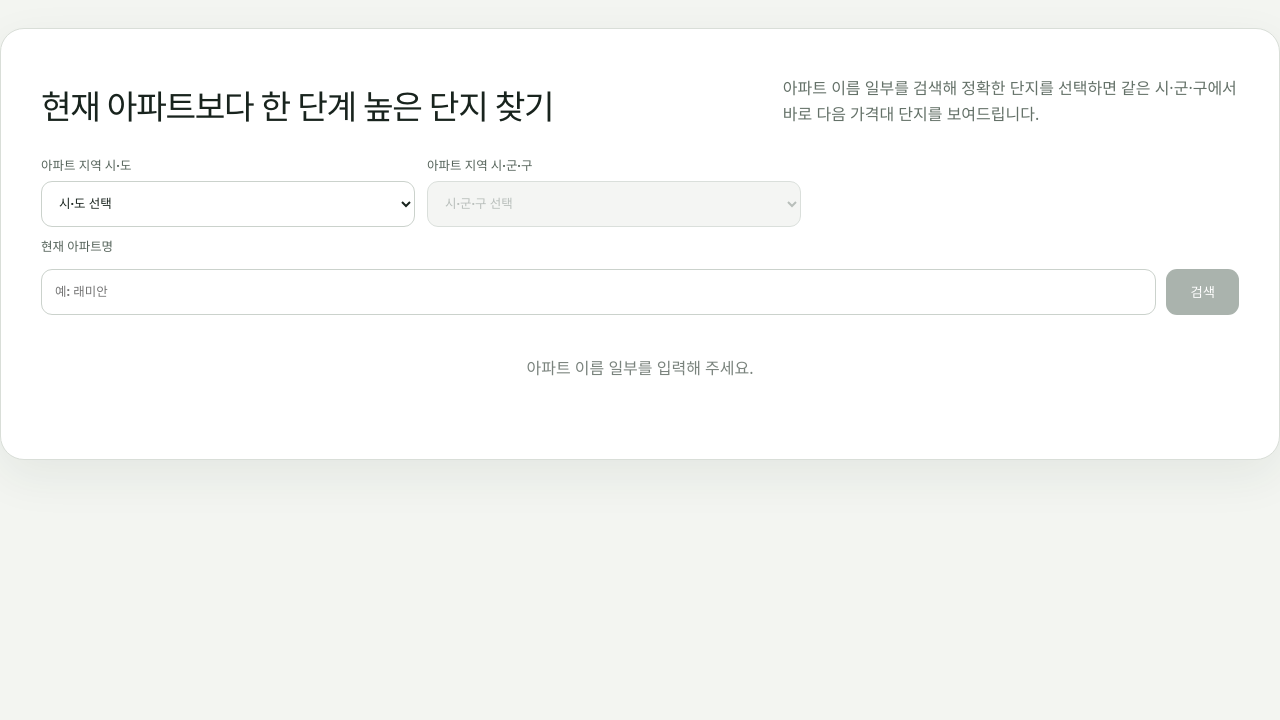
searches current apartment and recommends better apartments in the same region
Step 1. Select "서울특별시" in the dropdown labelled "아파트 지역 시·도" → (228, 204), box [41,181,415,227]
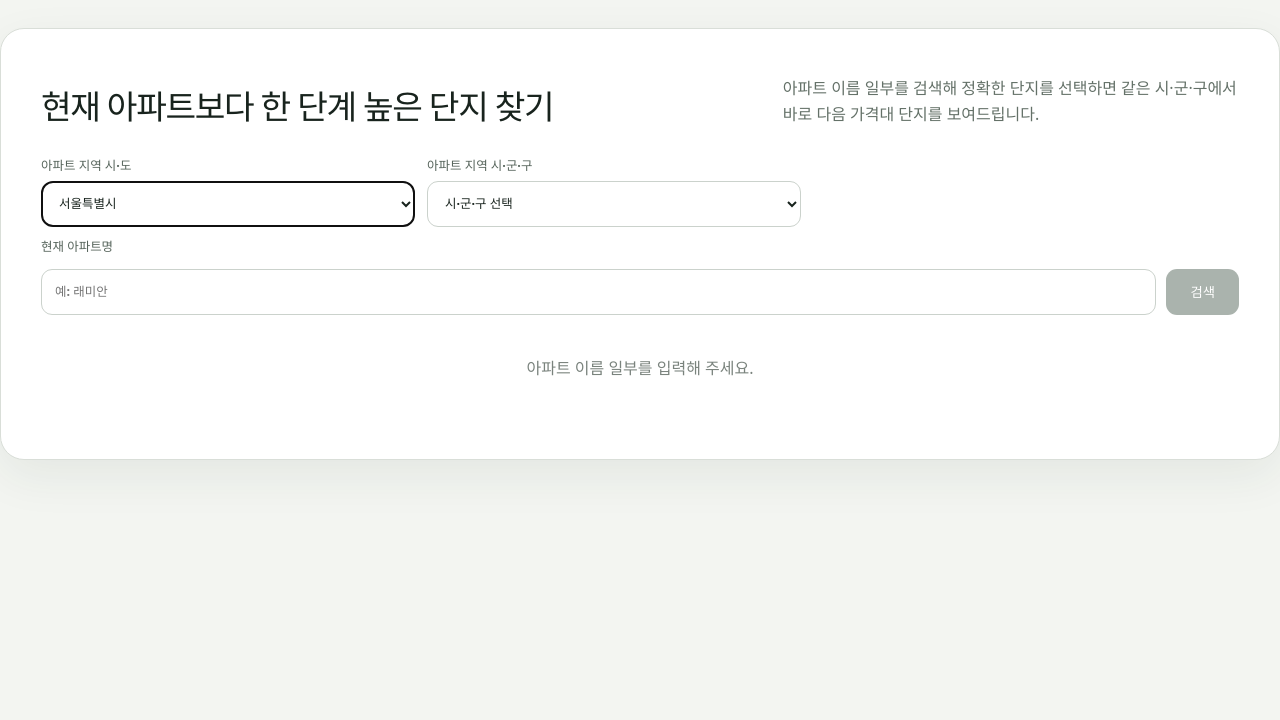
Step 2. Select "마포구" in the dropdown labelled "아파트 지역 시·군·구" → (614, 204), box [427,181,801,227]
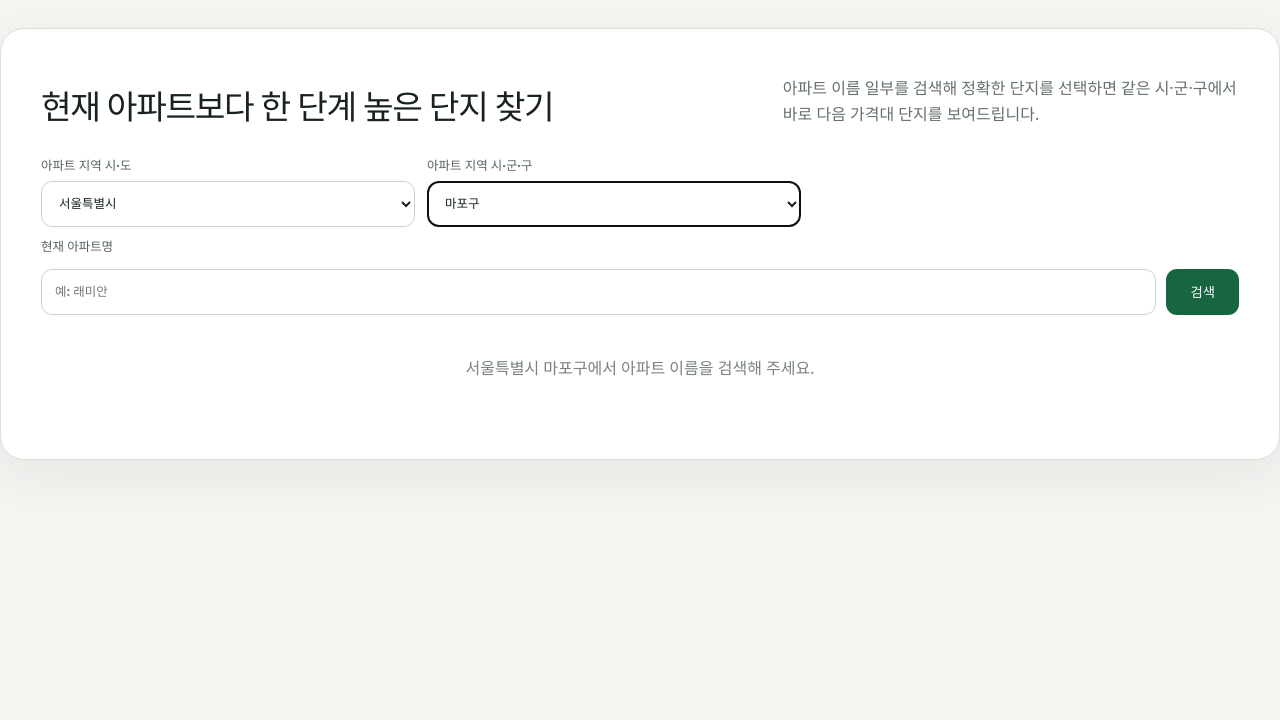
Step 3. Type "현재" into the field labelled "현재 아파트명" → (599, 292), box [41,269,1156,315]
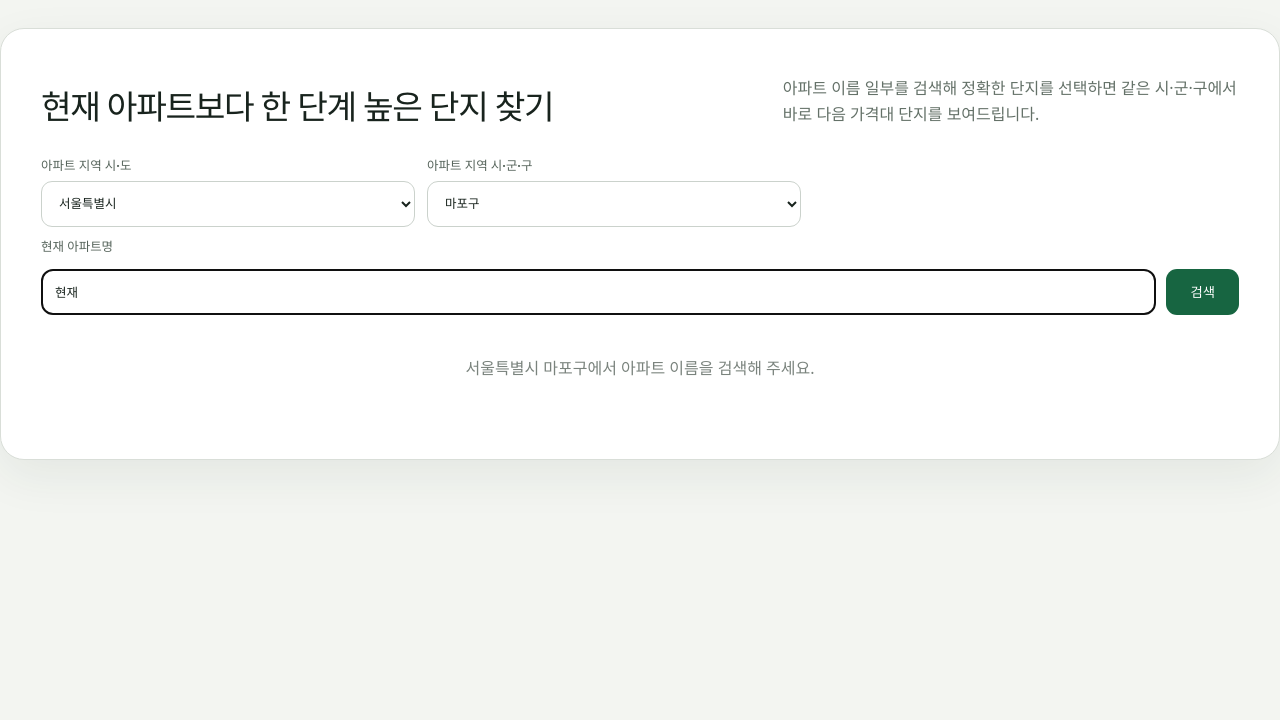
Step 4. Click the button "검색" → (1203, 292), box [1166,269,1239,315]
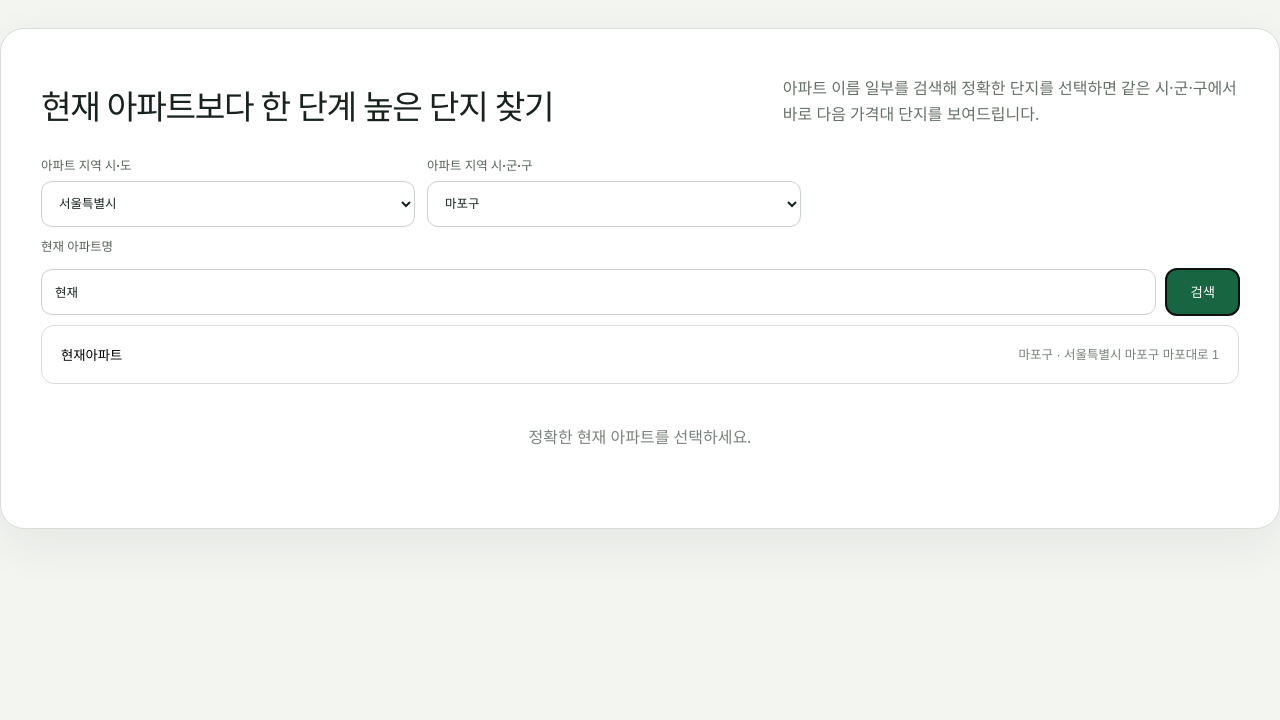
Step 5. Click the button "현재아파트 마포구 · 서울특별시 마포구 마포대로 1" → (92, 355), box [49,333,1231,376]
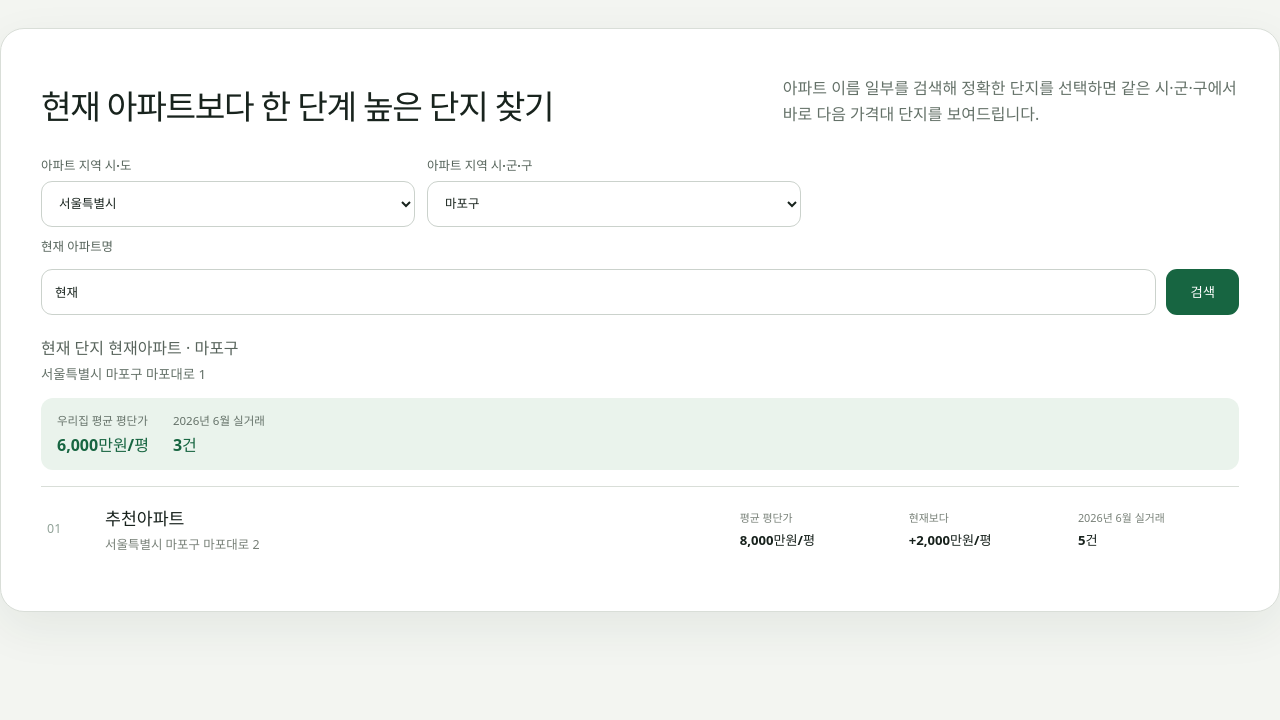
Now the text "서울특별시 마포구 마포대로 1" is shown, box [41,365,206,383]
Now the heading "추천아파트" is shown, box [105,507,184,530]
Now the text "8,000만원/평" is shown, box [740,531,815,549]
